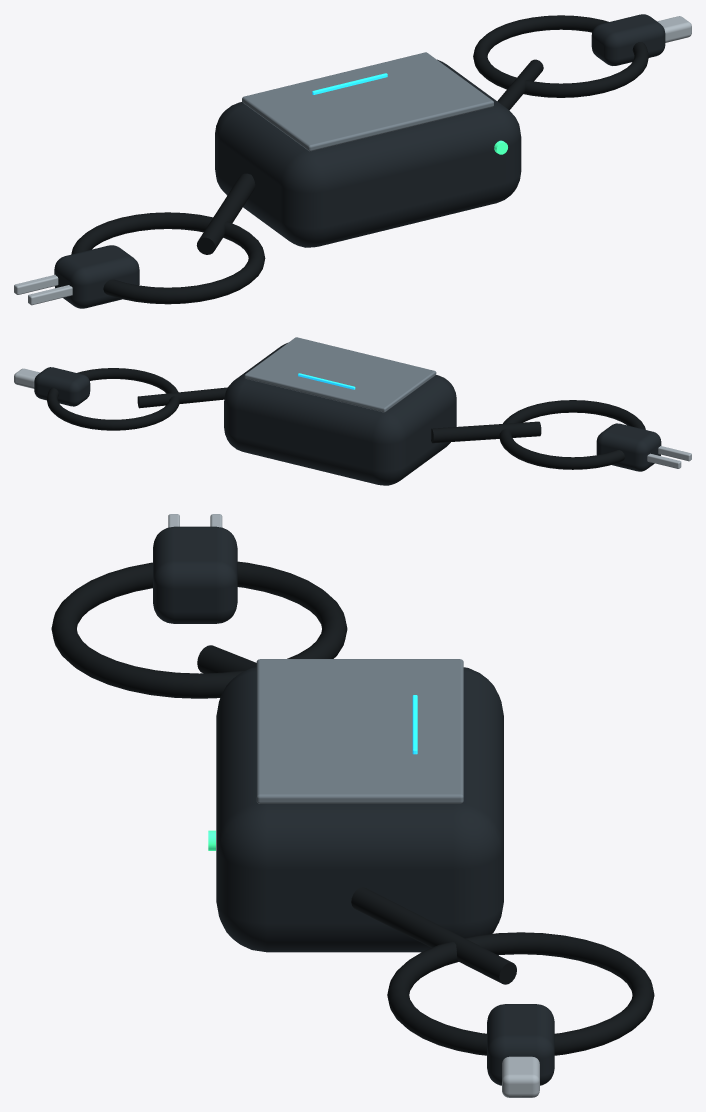
Rendered from laptop-charger.glb.
3 renders of one model, top to bottom at view 1: azimuth 30°, elevation 25°; view 2: azimuth 150°, elevation 25°; view 3: azimuth 270°, elevation 25°, orthographic. The views are drawn at different scales.
Visible parts, largest first — view 1: Power adapter, Premium USB-C laptop charger, Brushed adapter face, AC connector, USB-C grip, AC pin (×2), USB-C plug; view 2: Power adapter, Premium USB-C laptop charger, Brushed adapter face, AC connector, USB-C grip, AC pin (×2), USB-C plug; view 3: Power adapter, Brushed adapter face, Premium USB-C laptop charger, AC connector, USB-C grip, USB-C plug.
Boxes of the visible parts, <box> form: Power adapter: <box>215,59,521,247</box>; Premium USB-C laptop charger: <box>71,15,648,304</box>; Brushed adapter face: <box>242,52,493,151</box>; AC connector: <box>54,245,139,308</box>; USB-C grip: <box>591,14,665,65</box>; AC pin (×2): <box>14,274,72,305</box>; USB-C plug: <box>657,16,691,42</box>; Power adapter: <box>224,343,456,485</box>; Premium USB-C laptop charger: <box>46,368,645,469</box>; Brushed adapter face: <box>244,337,436,412</box>; AC connector: <box>596,423,661,471</box>; USB-C grip: <box>34,367,90,406</box>; AC pin (×2): <box>647,446,691,468</box>; USB-C plug: <box>14,368,40,388</box>; Power adapter: <box>216,667,503,952</box>; Brushed adapter face: <box>256,659,463,803</box>; Premium USB-C laptop charger: <box>51,561,654,1055</box>; AC connector: <box>153,526,237,623</box>; USB-C grip: <box>487,1004,554,1085</box>; USB-C plug: <box>502,1056,539,1097</box>.
Bounding box in the file's own units: 3.2 × 0.417 × 1.43.
